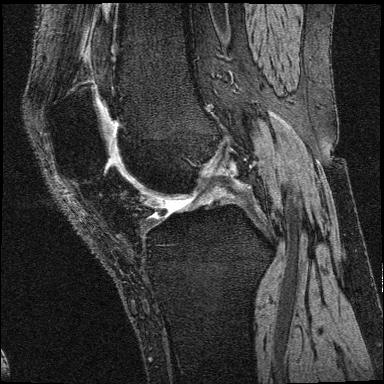SagKneeJointArea: (44, 81, 275, 285)
